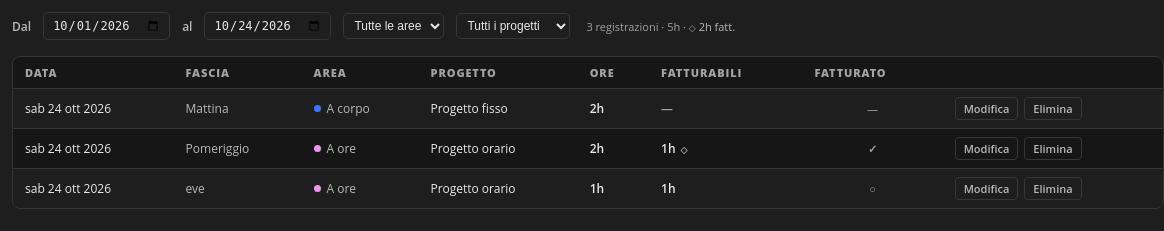
Test: EntriesScreen › modifica e salvataggio passano dalla riga, Annulla la chiude
Click the button "Modifica" in the row of "Mattina" at (987, 108), box left=955, top=97, right=1018, bottom=120
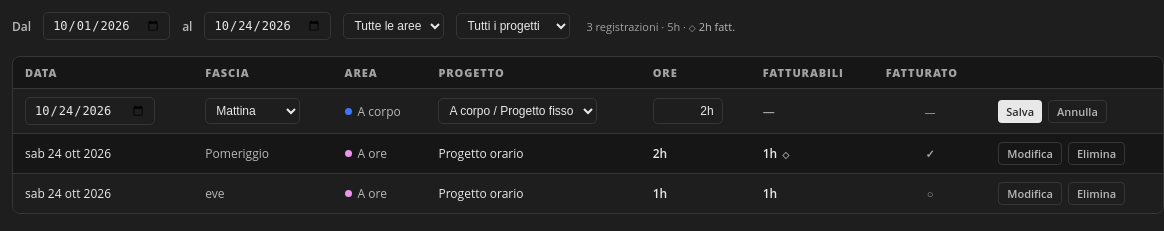
Click the button "Annulla" at (1077, 111), box left=1048, top=100, right=1107, bottom=122
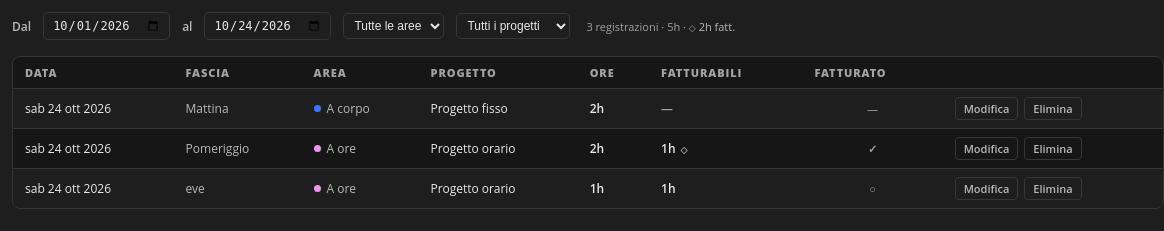
Expected: the button "Modifica" in the row of "Mattina" is shown
Click the button "Modifica" in the row of "Mattina" at (987, 108), box left=955, top=97, right=1018, bottom=120
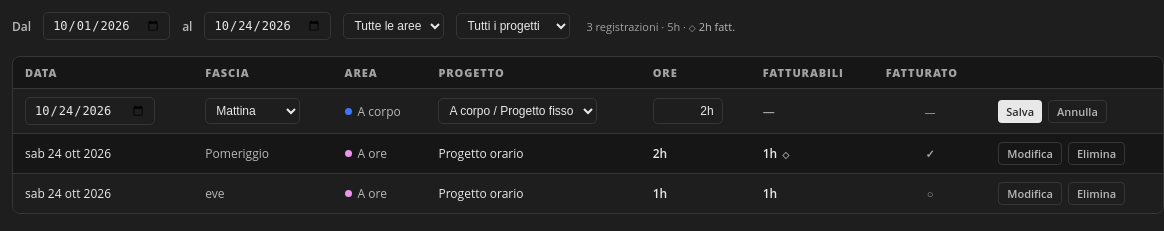
Click the button "Salva" at (1020, 111), box left=998, top=100, right=1042, bottom=122
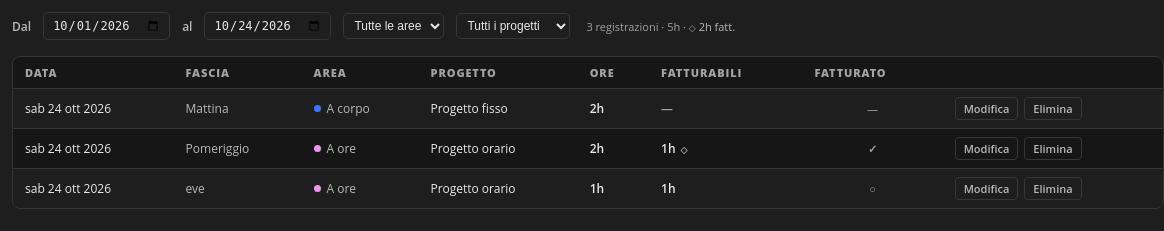
Expected: the text "Progetto fisso" is shown, left=431, top=100, right=508, bottom=117
